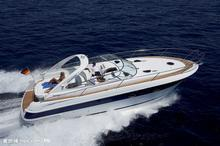yacht: (14, 42, 200, 120)
